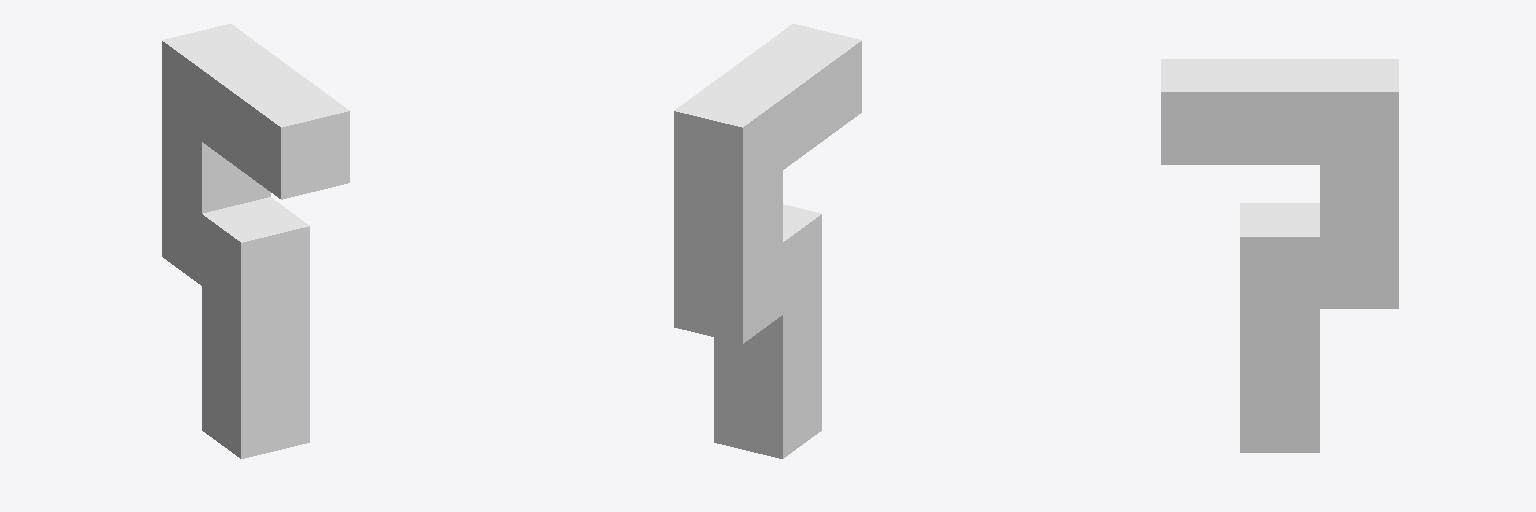
Rendered from nowruz-display-3.obj.
3 views of the same model, side by side, from view 1: azimuth 30°, elevation 25°; view 2: azimuth 150°, elevation 25°; view 3: azimuth 270°, elevation 25° (orthographic).
Visible parts, largest first — view 1: object 1; view 2: object 1; view 3: object 1.
Boxes of the visible parts, x1=… form: object 1: x1=162, y1=24, x2=349, y2=458; object 1: x1=674, y1=24, x2=861, y2=458; object 1: x1=1161, y1=59, x2=1398, y2=452.
Size of the model in its own units: 0.1 by 0.5 by 0.3.